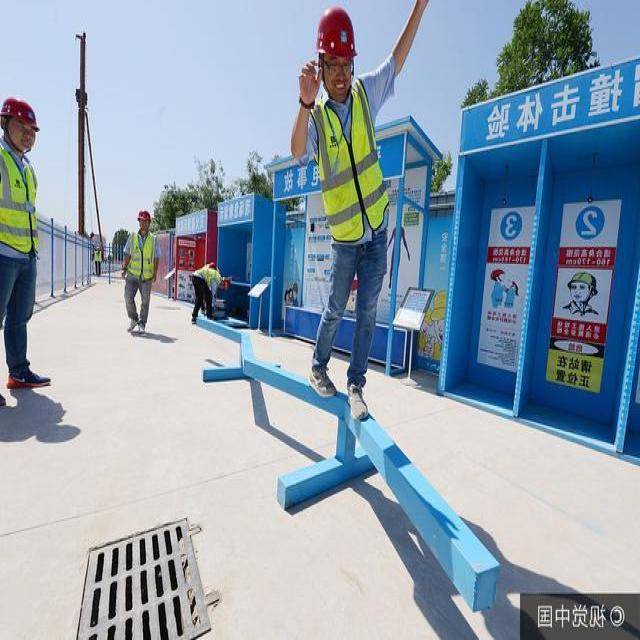reflective_jacket: (310, 76, 389, 244), (0, 145, 42, 257), (126, 229, 157, 279)
safety_helmet: (312, 1, 360, 57), (1, 93, 41, 134), (136, 206, 153, 222)
